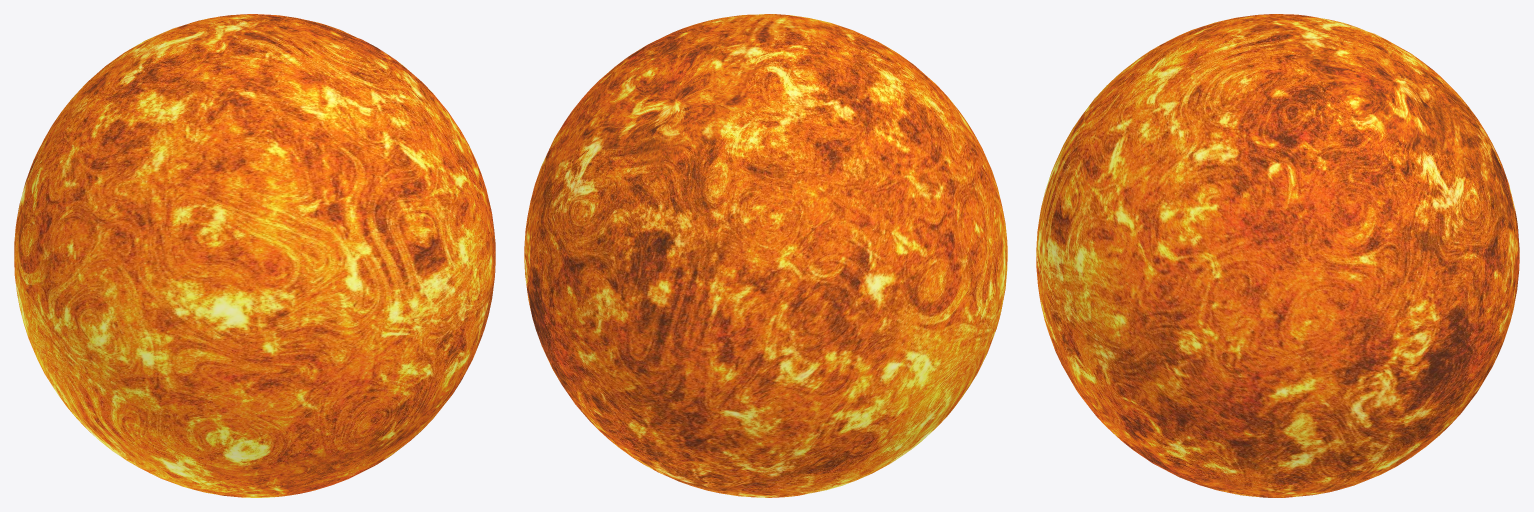
The model's file is sun1.glb.
3 views of the same model, side by side, from view 1: azimuth 30°, elevation 25°; view 2: azimuth 150°, elevation 25°; view 3: azimuth 270°, elevation 25° (orthographic).
Parts seen in each view (by area): view 1: Planeta.009_09.Sun_0; view 2: Planeta.009_09.Sun_0; view 3: Planeta.009_09.Sun_0.
Part boxes in pixels (box(x1,y1,x2,y2)): Planeta.009_09.Sun_0: box(14, 14, 495, 497); Planeta.009_09.Sun_0: box(524, 14, 1007, 497); Planeta.009_09.Sun_0: box(1036, 14, 1519, 497).
Size of what is drawn, in the model's own units: 18.98 by 19.05 by 19.01.
Materials: 1 (1 with a texture image).
